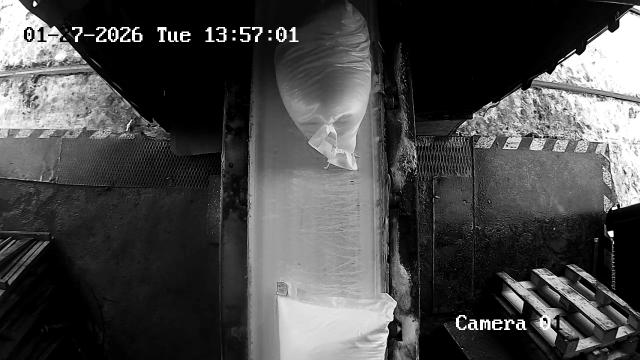bag: (275, 0, 372, 170), (277, 282, 397, 360)
